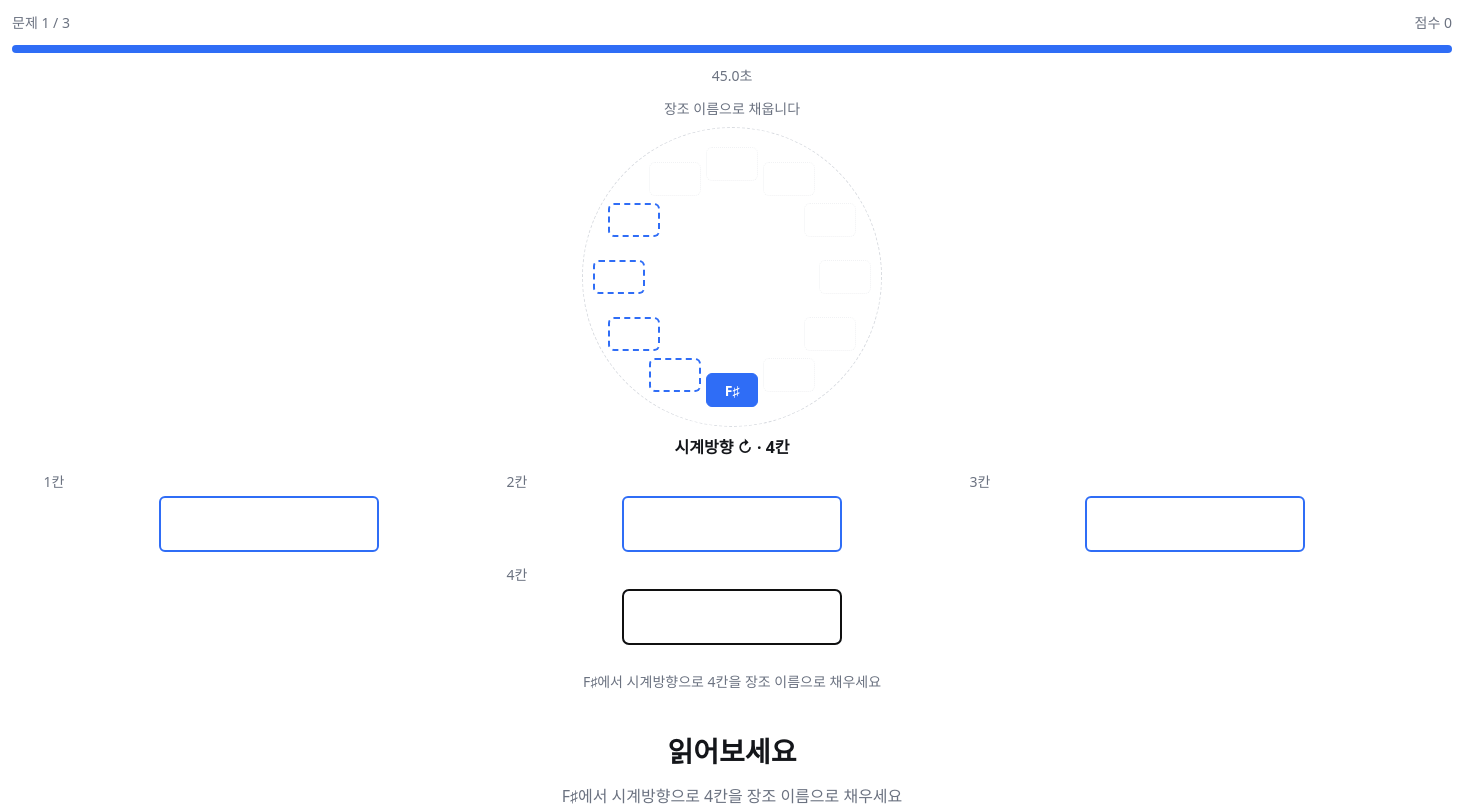
Test: 5도권 — 원을 채운다 › 한 칸을 밀어 적으면 오답
The width and height of the screenshot is (1464, 810).
Type "A♭" into the field labelled "1칸" at point(269, 524), box [159, 496, 379, 552]
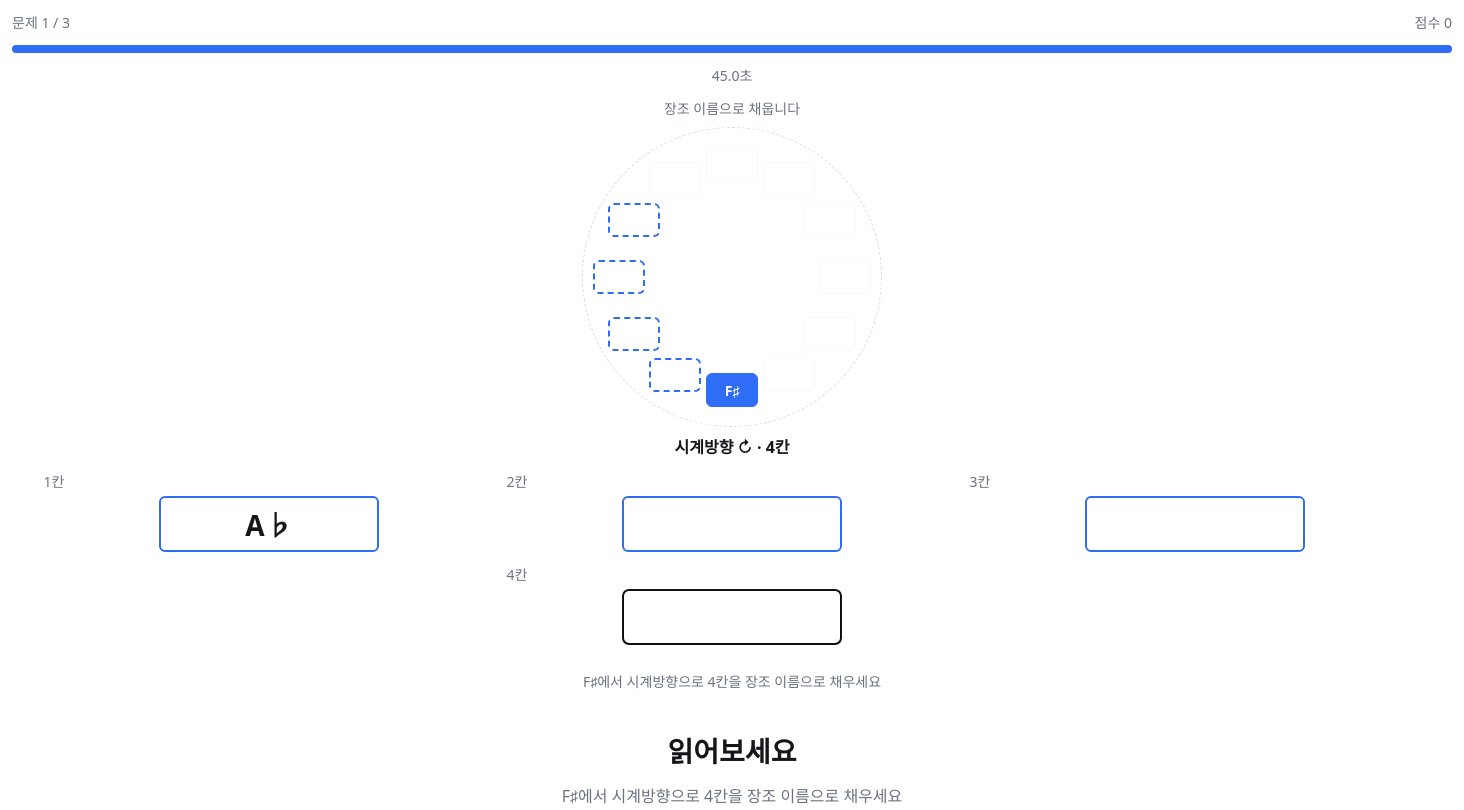
Type "E♭" into the field labelled "2칸" at point(732, 524), box [622, 496, 842, 552]
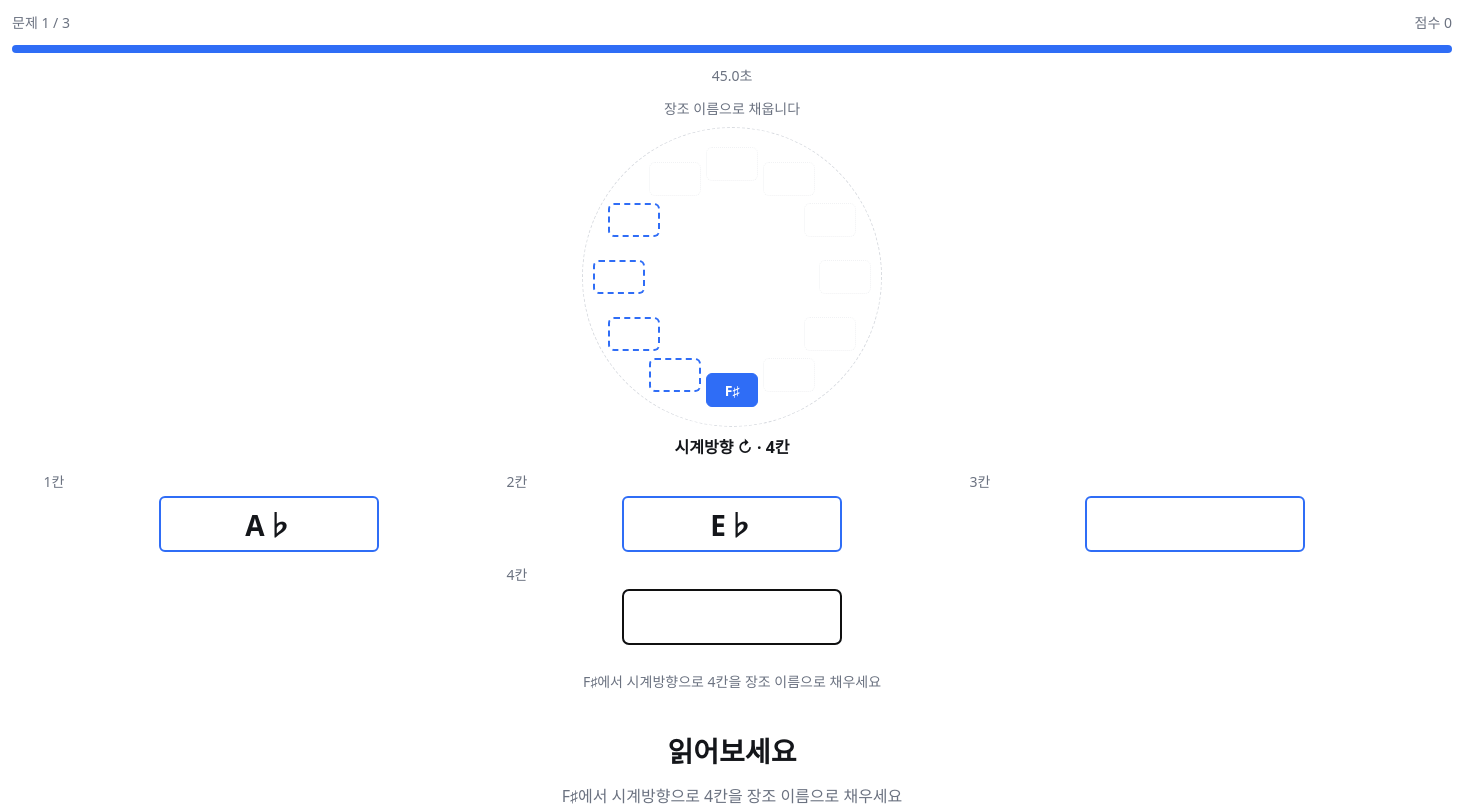
Type "B♭" into the field labelled "3칸" at point(1195, 524), box [1085, 496, 1305, 552]
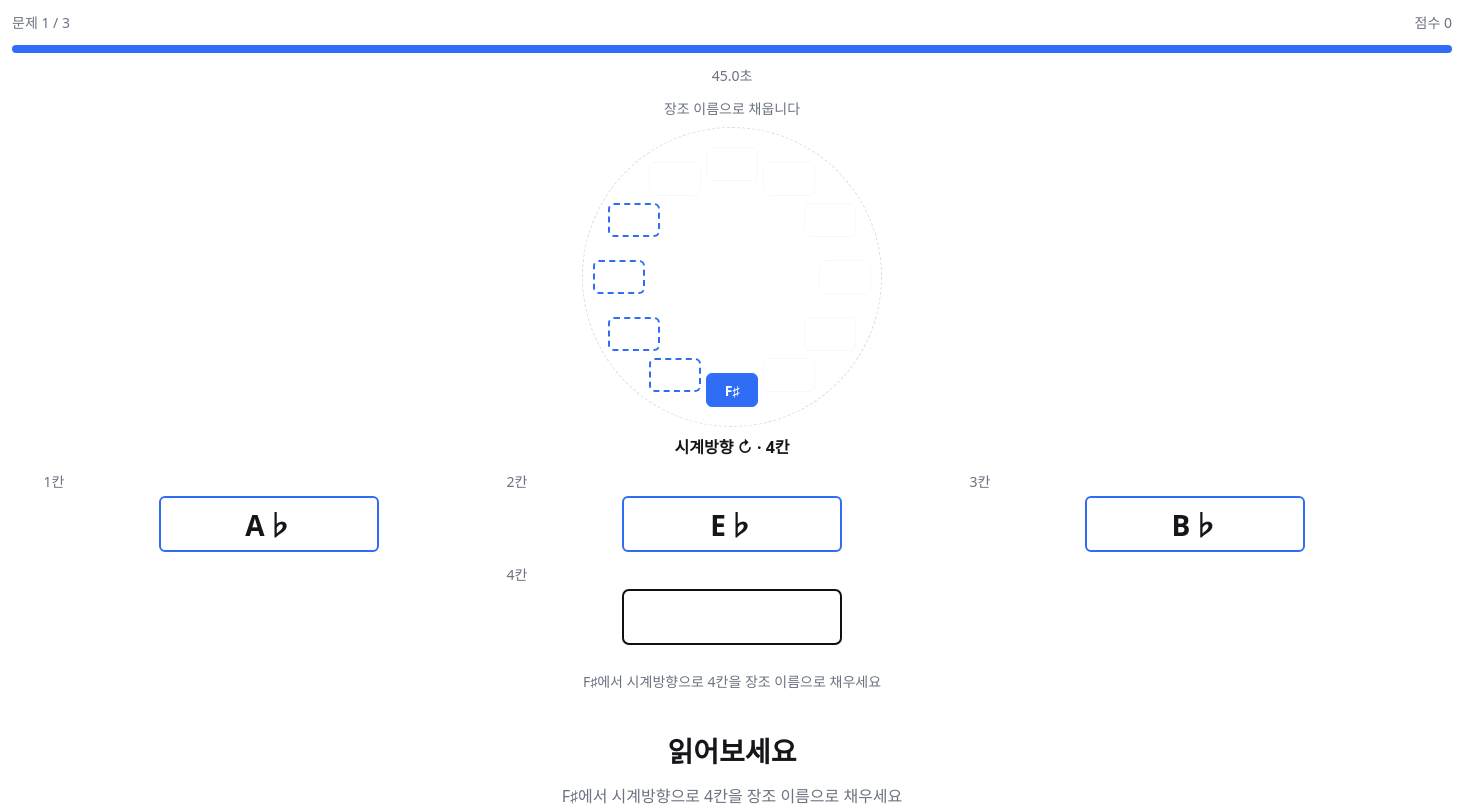
Type "C♯" into the field labelled "4칸" at point(732, 617), box [622, 589, 842, 645]
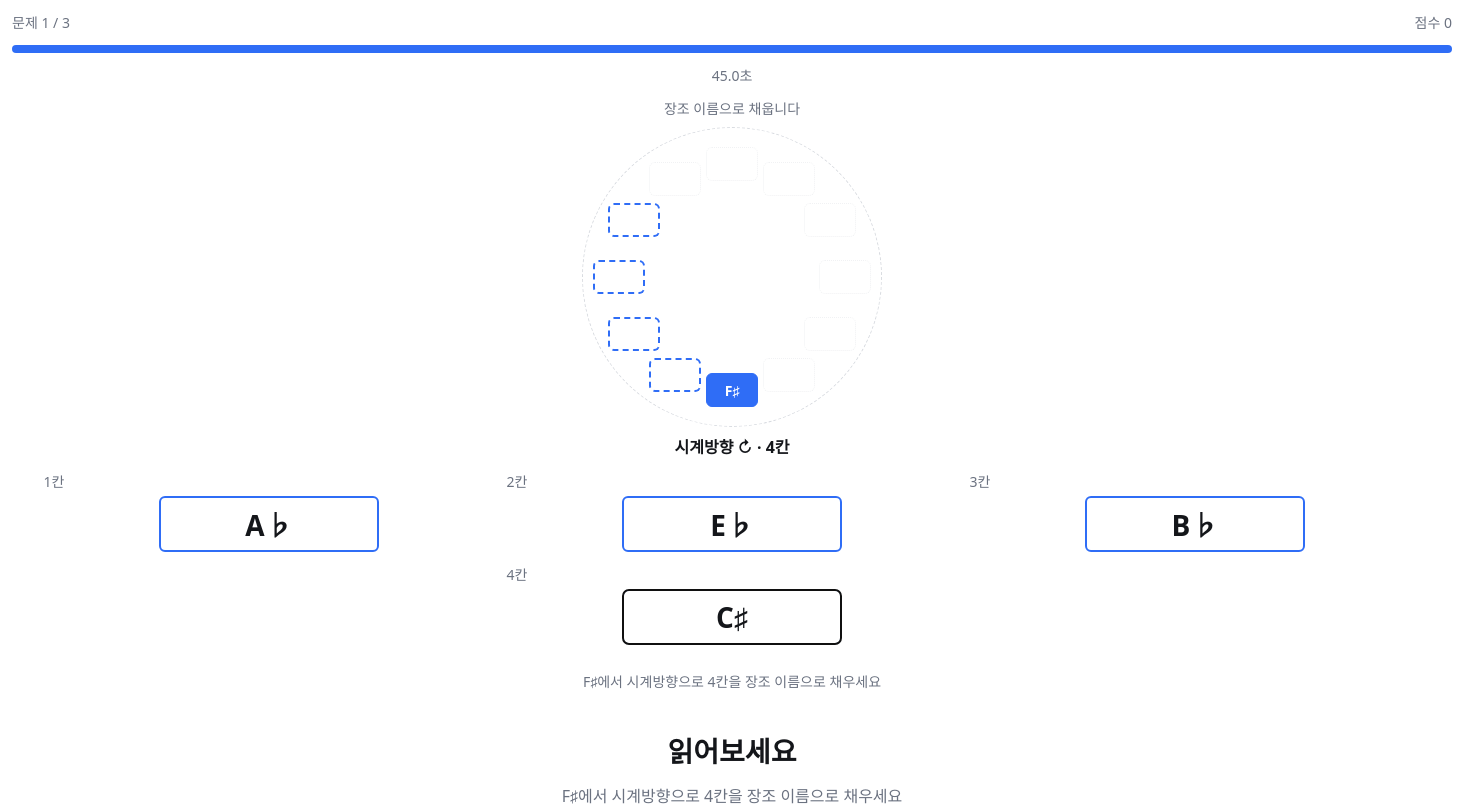
Press Enter in the field labelled "4칸", box [622, 589, 842, 645]
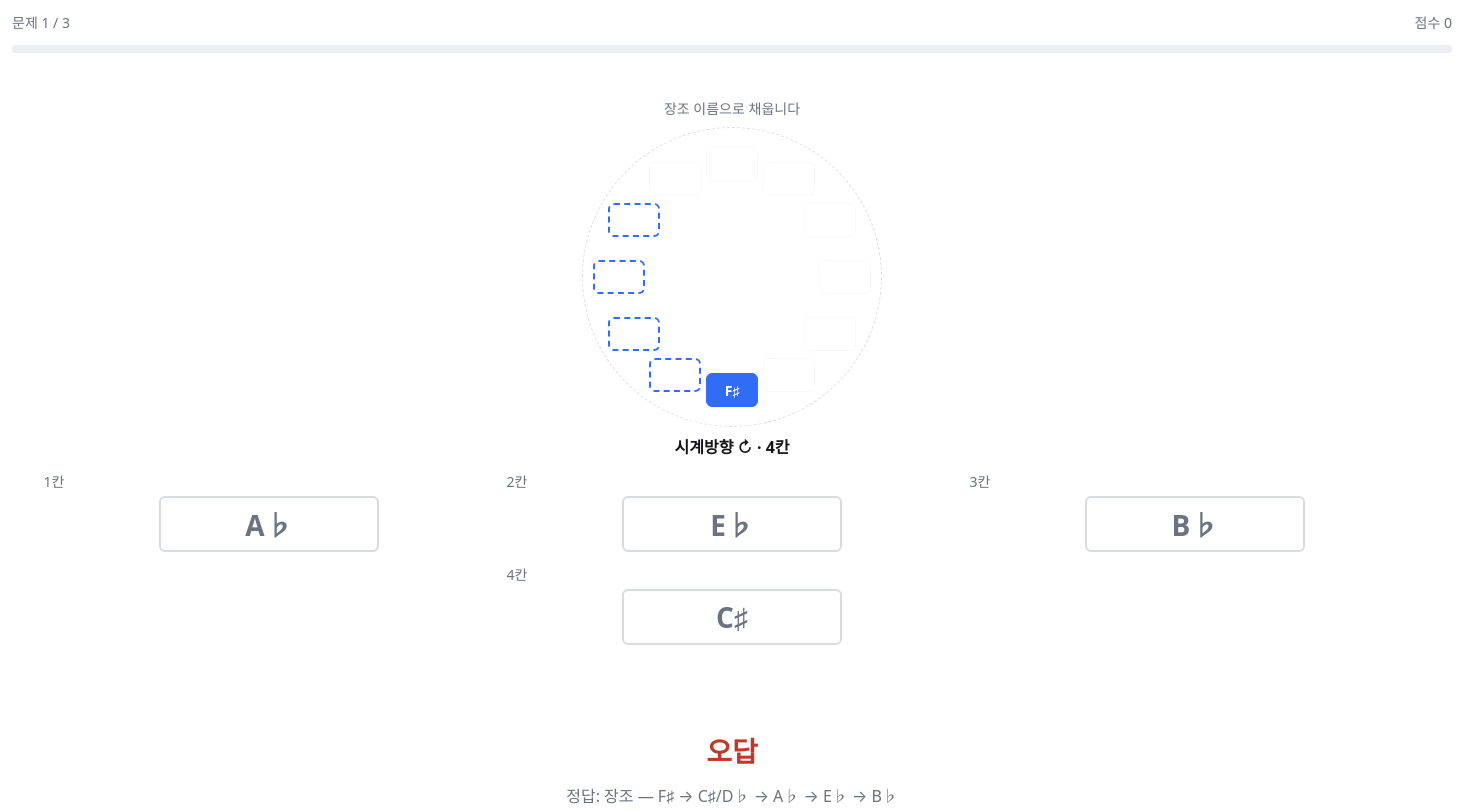
Expected: the text "오답" is shown, [706, 732, 758, 770]
